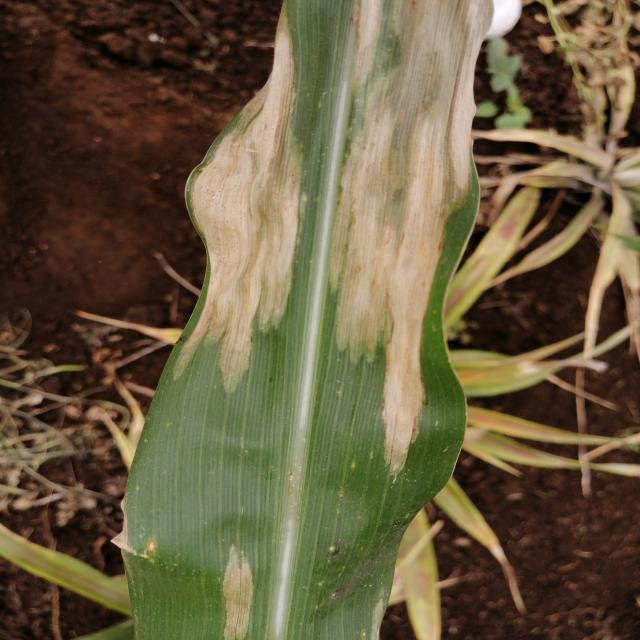Corn_Leaf_Blight: (164, 0, 489, 508)
